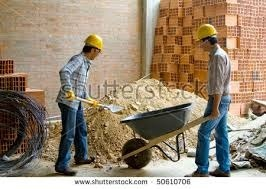helmet: (194, 22, 219, 43), (82, 32, 104, 54)
person with partial safety: (53, 32, 103, 174), (193, 23, 233, 177)
